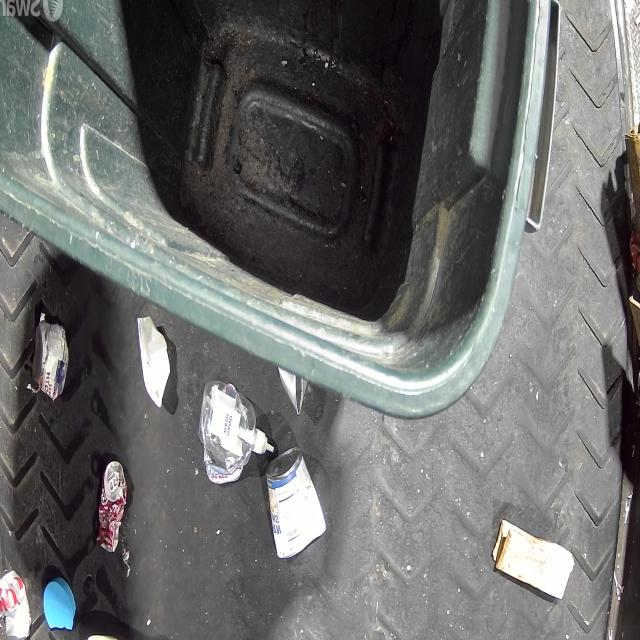can: (266, 447, 326, 558), (96, 460, 128, 554), (32, 322, 68, 402), (0, 568, 31, 640), (280, 370, 310, 414)
